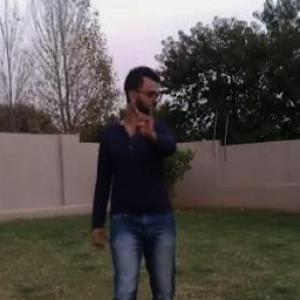takeoff-hand: (129, 97, 160, 142)
